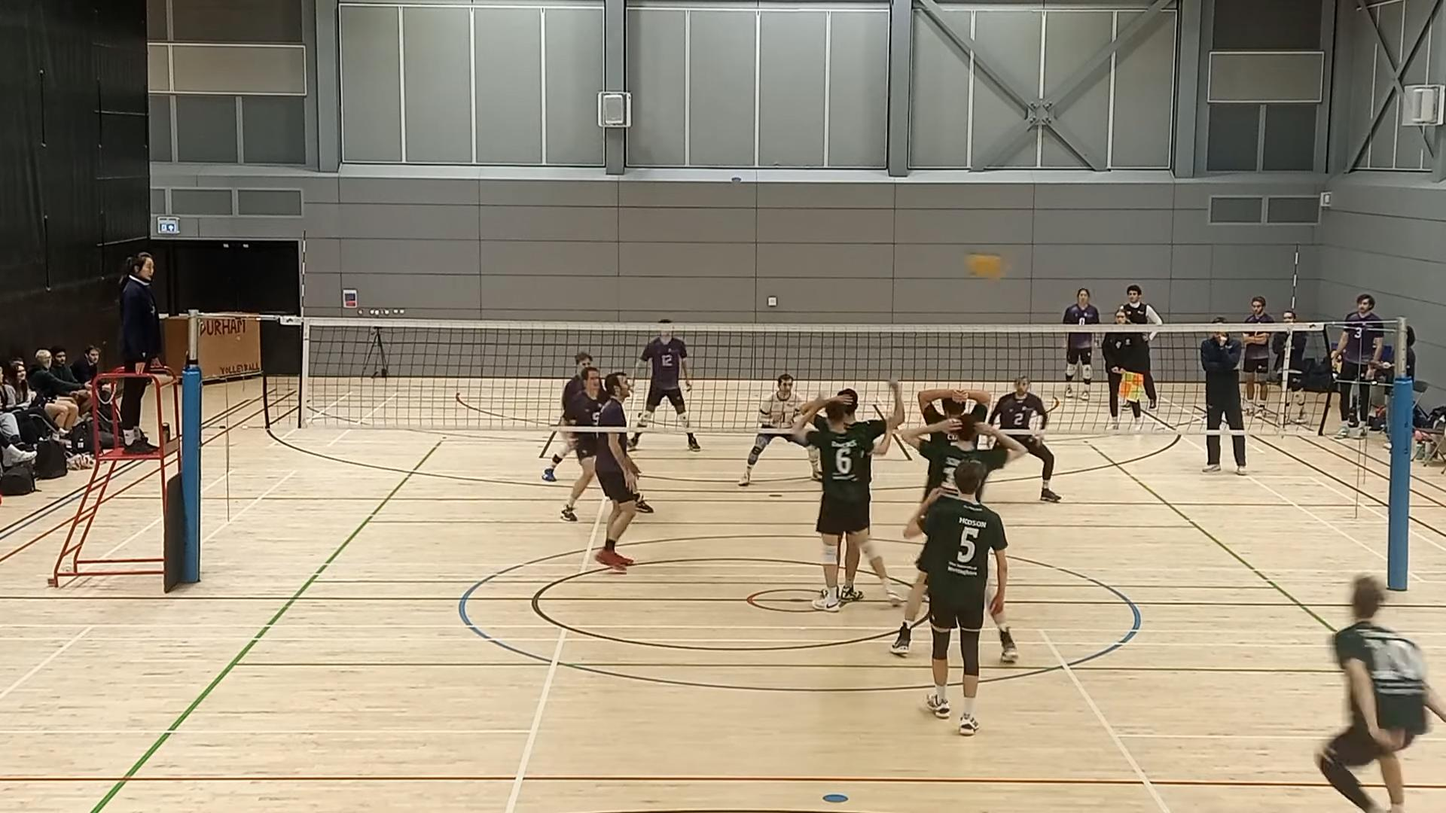Player: (1316, 576, 1445, 812), (904, 461, 1007, 735), (795, 381, 903, 611), (899, 414, 1027, 498), (988, 376, 1060, 502), (595, 372, 640, 571), (636, 318, 700, 451), (738, 373, 801, 486), (561, 432, 605, 521), (561, 432, 599, 521), (917, 388, 991, 423), (560, 351, 591, 423), (839, 546, 863, 604)
